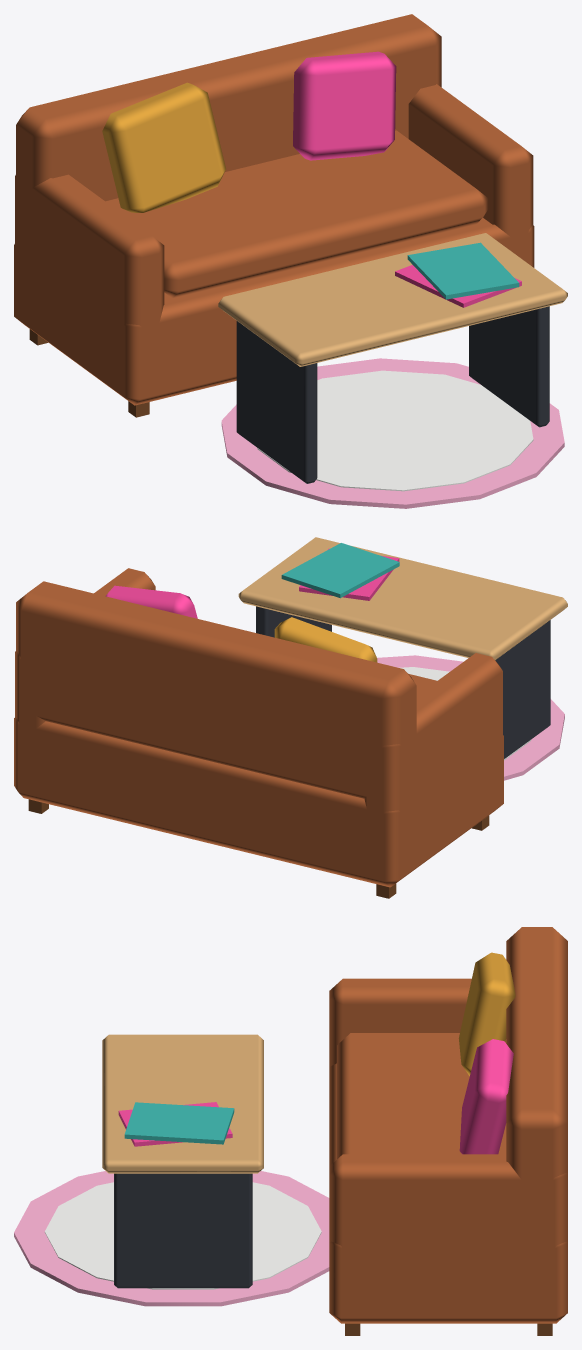
Rendered from station_special_basis.glb.
3 renders of one model, top to bottom at view 1: azimuth 30°, elevation 25°; view 2: azimuth 150°, elevation 25°; view 3: azimuth 270°, elevation 25°, orthographic. The views are drawn at different scales.
Visible parts, largest first — view 1: station_special_basis; view 2: station_special_basis; view 3: station_special_basis.
Part boxes in pixels (box(x1,y1,x2,y2)): station_special_basis: box(14, 14, 567, 508); station_special_basis: box(14, 537, 567, 898); station_special_basis: box(14, 927, 567, 1335).
Size of the model in its own units: 1.2 by 0.6844 by 1.44.
